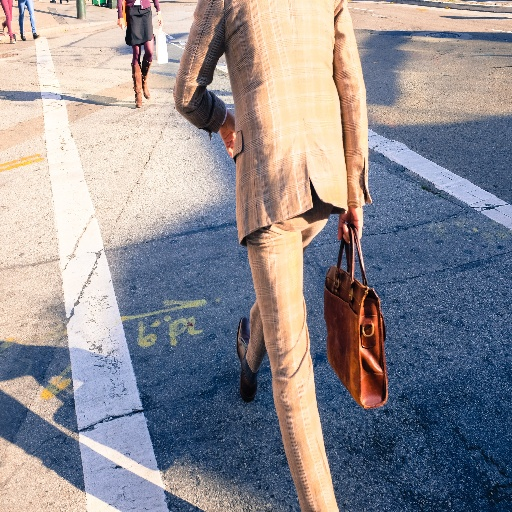hand: (211, 81, 242, 156), (337, 205, 363, 248), (117, 16, 126, 32), (157, 14, 163, 28)
